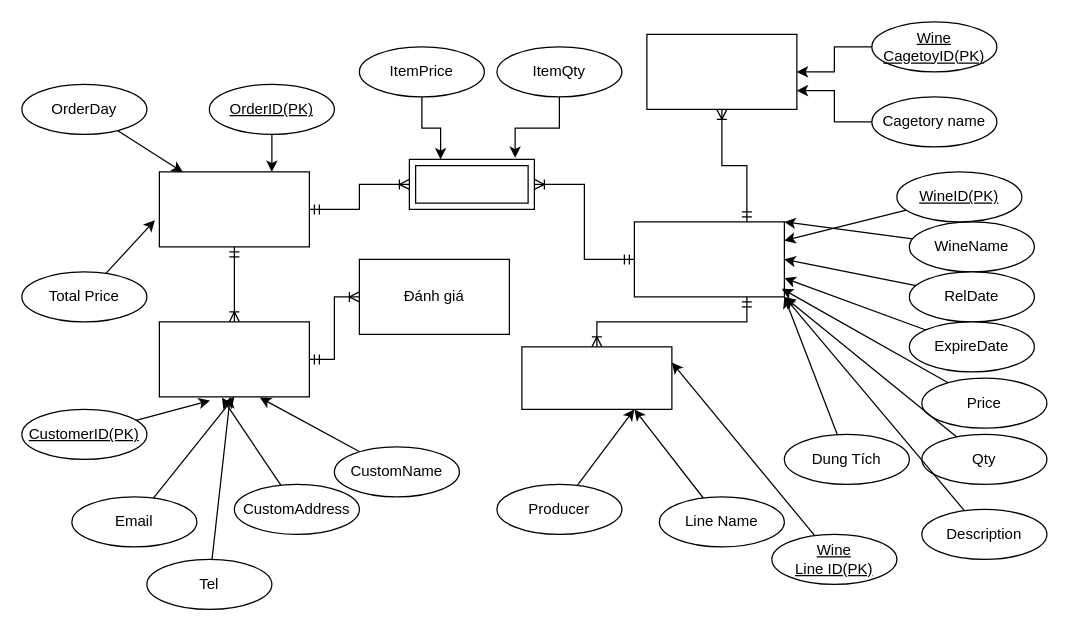
The diagram is 1069 pixels wide and 631 high, and some of its shapes have lost their labels. Here are the shapes that lost their labels. From the top down, the box of each, then its label:
(646, 33, 797, 109): Chủng loại Rượu
(408, 158, 534, 209): Đơn hàng sản phẩm
(158, 171, 309, 247): đơn hàng
(633, 221, 784, 297): Wine
(158, 321, 309, 397): Khách Hàng
(521, 346, 672, 409): Dòng rượu
